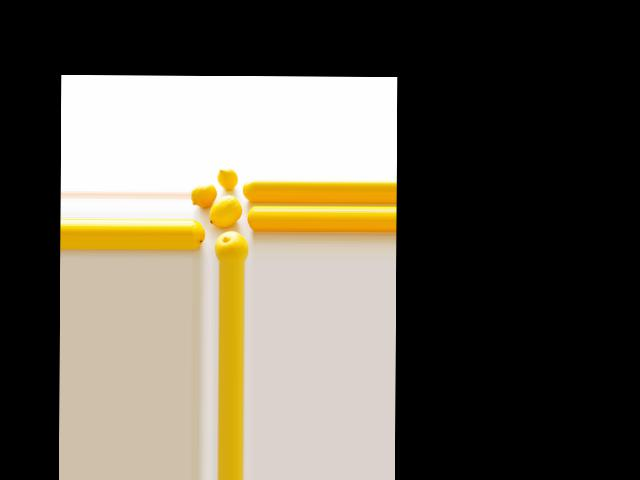lemon: (190, 215, 208, 245)
